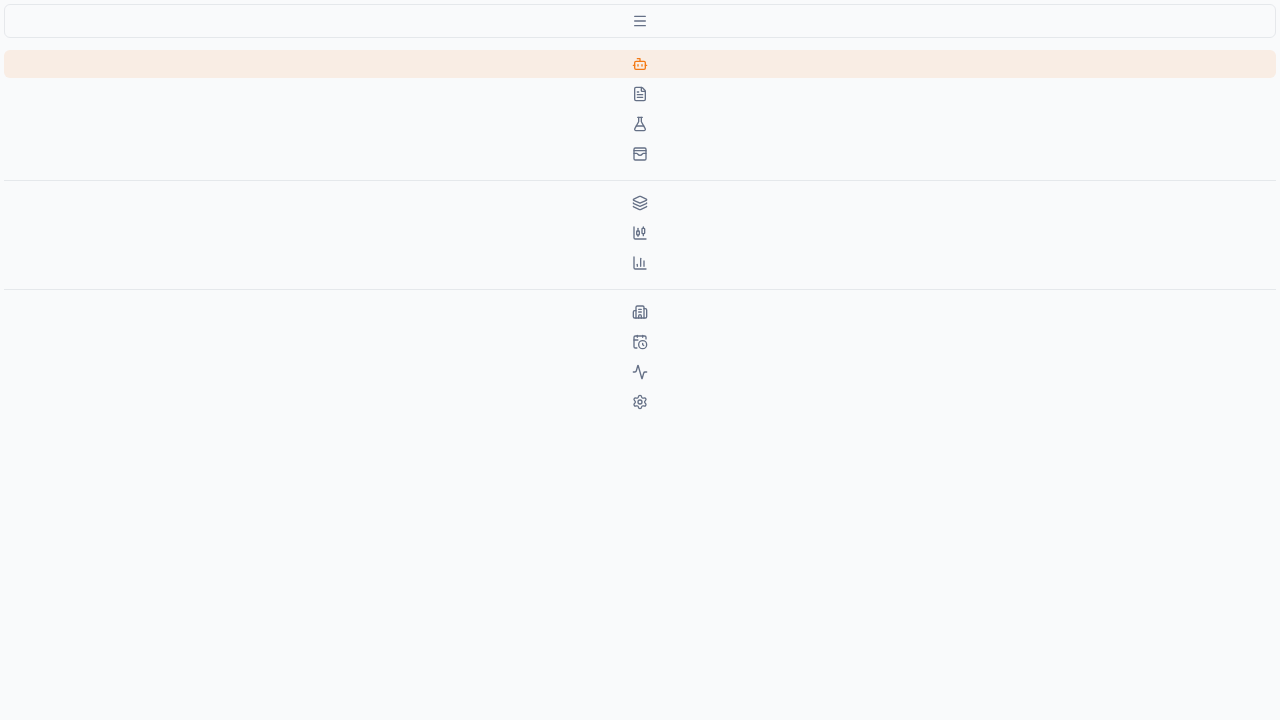
it: closes the feature menu after selecting a destination
Click the button named "Browse features": (640,21) [4,4,1276,38]
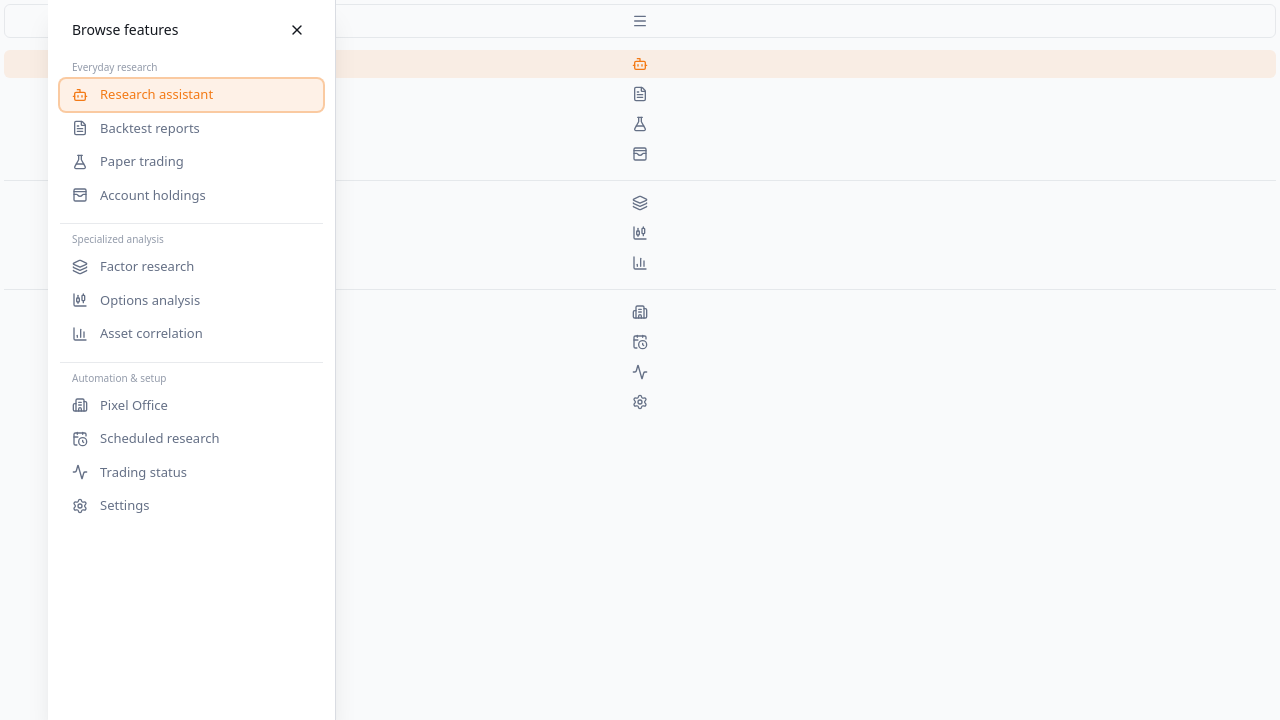
Click the link "Backtest reports": (136,128) [72,118,200,136]
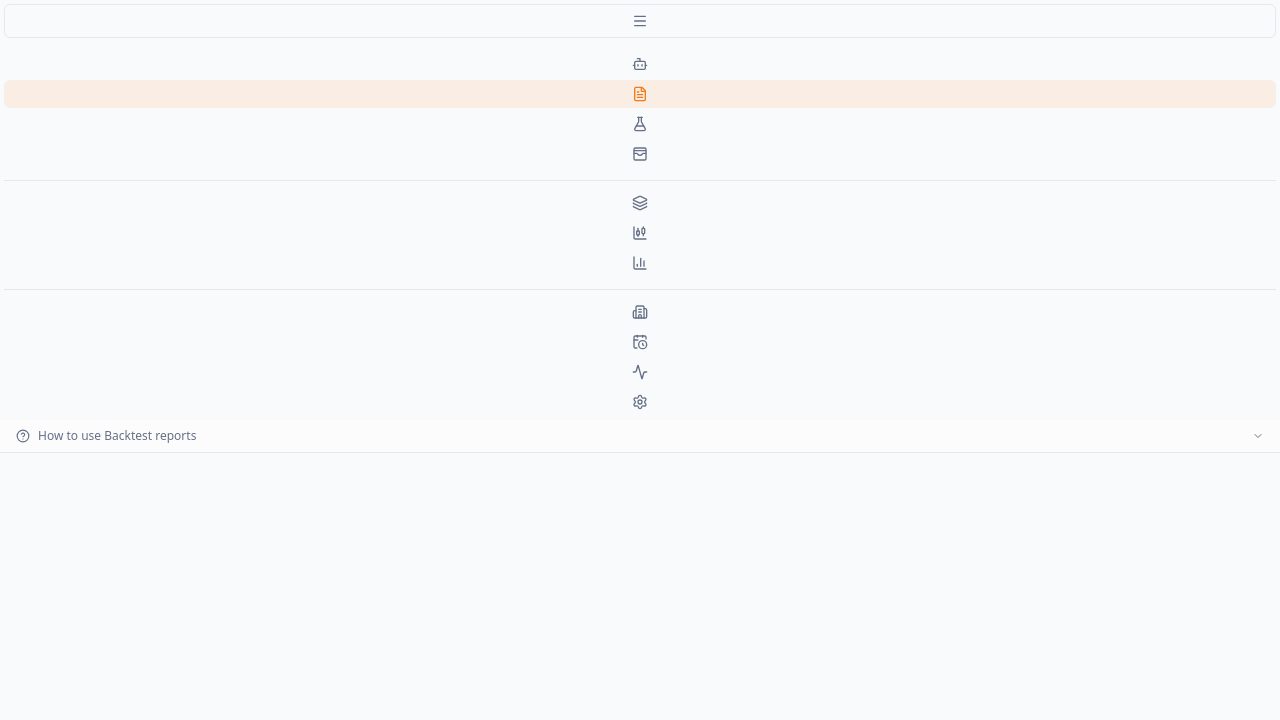
expect the navigation bar "Browse features" is gone: met
expect the heading "How to use Backtest reports" is shown: met, box [16,428,1264,444]
